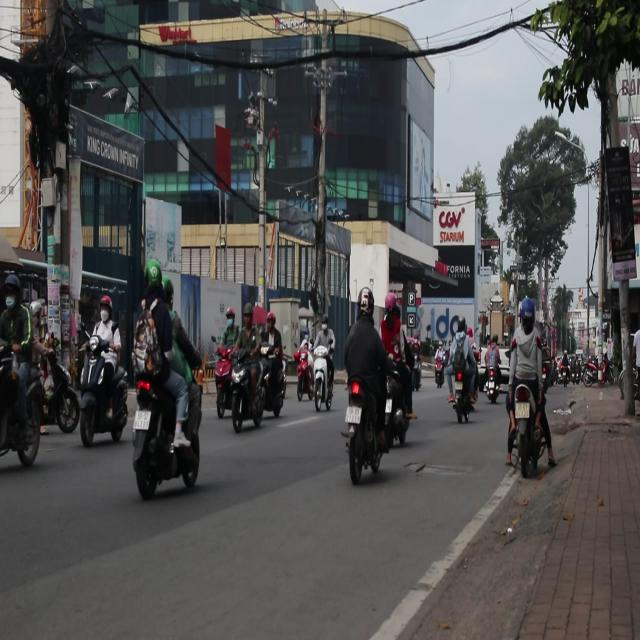motorbike: (128, 377, 206, 511), (0, 334, 46, 469), (73, 338, 129, 446), (340, 374, 387, 484), (218, 350, 267, 430), (37, 347, 81, 435), (508, 382, 546, 480), (311, 348, 333, 412), (294, 344, 312, 402), (451, 371, 471, 423), (484, 360, 500, 404), (556, 355, 572, 387), (434, 356, 446, 391)
